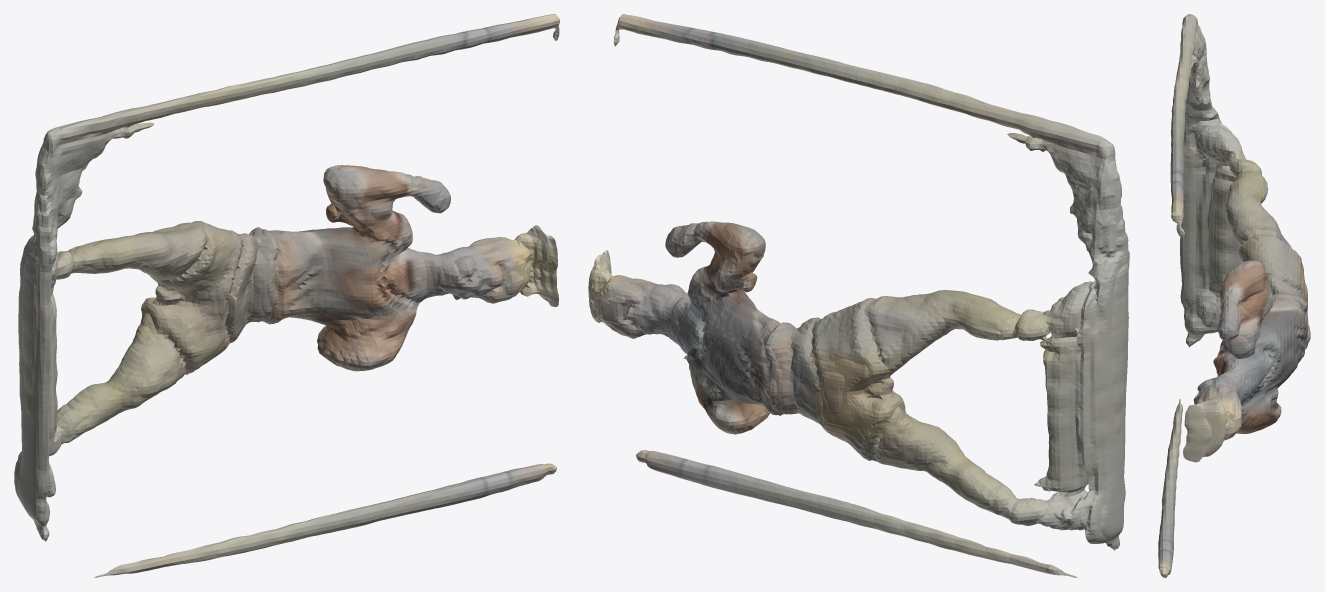
The model's file is triposr-concept2.glb.
The picture shows the model from 3 angles, left to right: view 1: azimuth 30°, elevation 25°; view 2: azimuth 150°, elevation 25°; view 3: azimuth 270°, elevation 25°; orthographic projection. The views are drawn at different scales.
Parts seen in each view (by area): view 1: geometry_0; view 2: geometry_0; view 3: geometry_0.
Boxes of the visible parts, x1,y1,x2,y2 form: geometry_0: (14, 14, 559, 577); geometry_0: (588, 14, 1129, 577); geometry_0: (1158, 14, 1310, 577).
Size of the model in its own units: 1.03 by 0.8691 by 0.315.
